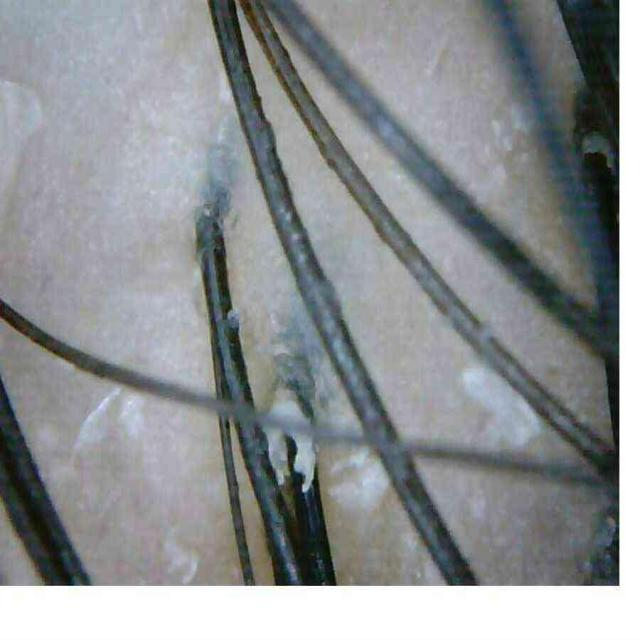d: (460, 363, 552, 450), (264, 386, 318, 492), (323, 443, 391, 511)
ds: (0, 80, 44, 191), (74, 388, 145, 453), (162, 530, 199, 585)
